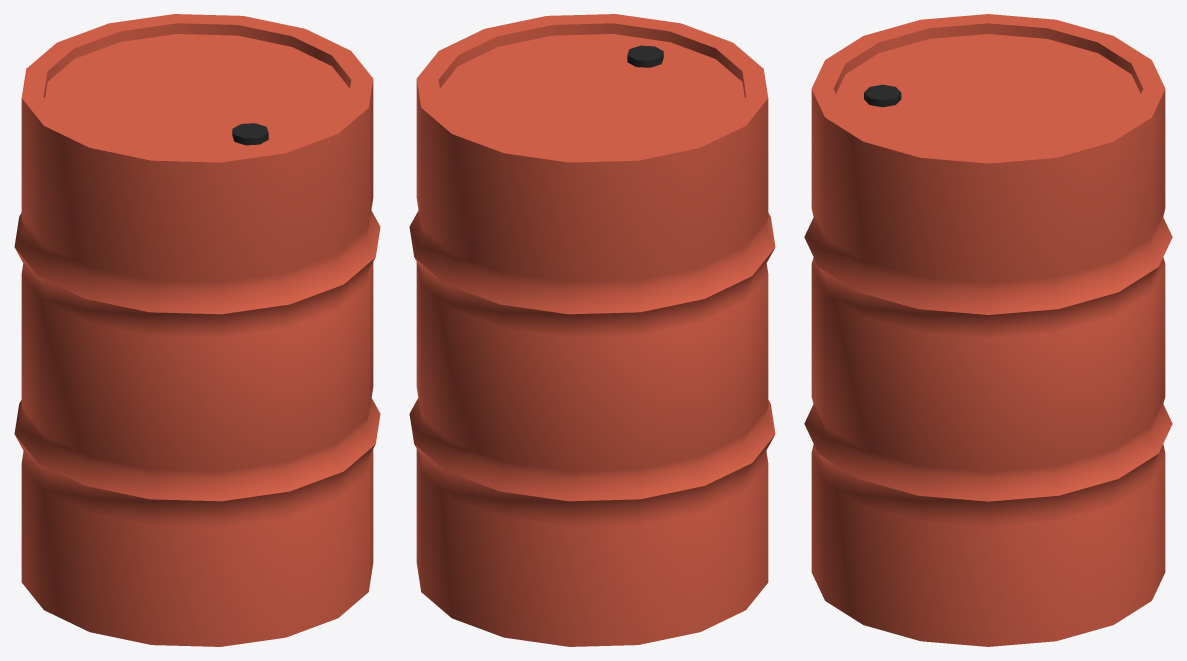
Rendered from explosion_barrel.glb.
3 views of the same model, side by side, from view 1: azimuth 30°, elevation 25°; view 2: azimuth 150°, elevation 25°; view 3: azimuth 270°, elevation 25° (orthographic).
Parts seen in each view (by area): view 1: base, pimp; view 2: base, pimp; view 3: base, pimp.
Boxes of the visible parts, left/top/right/bottom form: base: left=14, top=14, right=380, bottom=646; pimp: left=232, top=123, right=268, bottom=145; base: left=409, top=14, right=775, bottom=646; pimp: left=627, top=45, right=663, bottom=67; base: left=804, top=14, right=1172, bottom=646; pimp: left=864, top=84, right=901, bottom=107.
Bounding box in the file's own units: 2.08 × 3.01 × 2.08.
